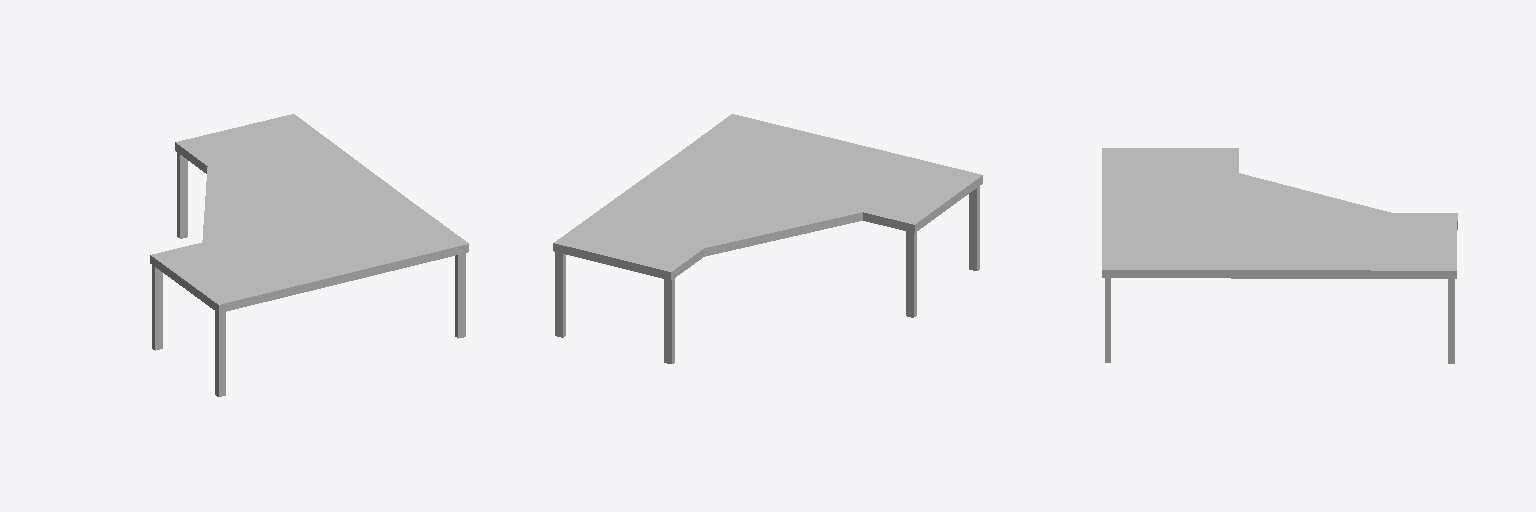
Rendered from 10dollar.obj.
3 renders of one model, left to right at view 1: azimuth 30°, elevation 25°; view 2: azimuth 150°, elevation 25°; view 3: azimuth 270°, elevation 25°, orthographic.
Visible parts, largest first — view 1: Cube.001; view 2: Cube.001; view 3: Cube.001.
Part boxes in pixels (bbox=[...]): Cube.001: bbox=[150, 114, 468, 396]; Cube.001: bbox=[553, 114, 982, 363]; Cube.001: bbox=[1102, 148, 1457, 363].
Bounding box in the file's own units: 6.4 × 2.27 × 7.8.